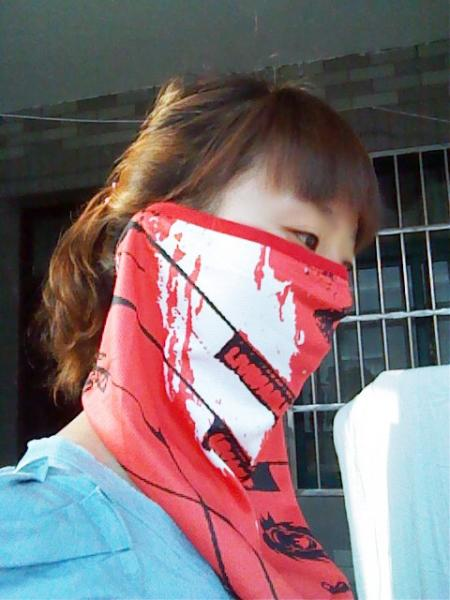OK: (157, 190, 363, 396)
